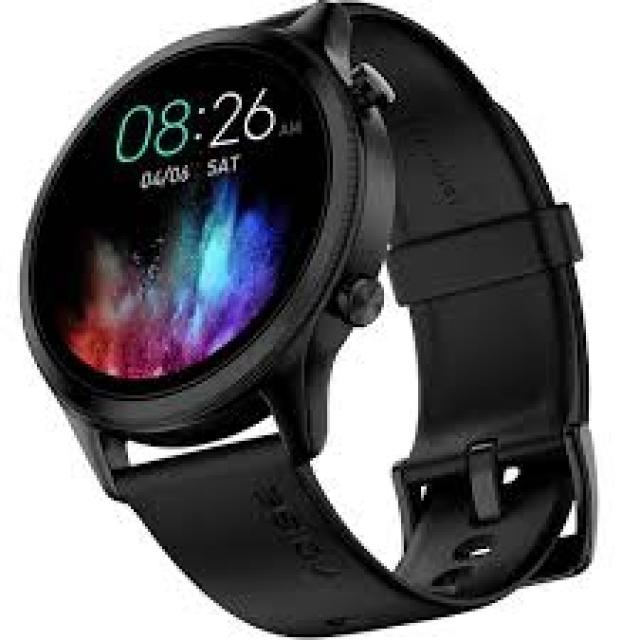objects: (23, 0, 594, 634)
